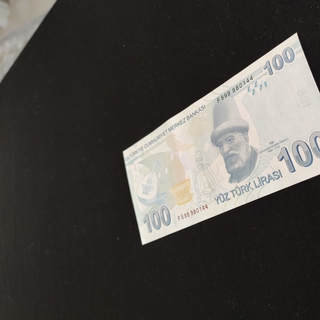100TLBack: (122, 31, 320, 245)
